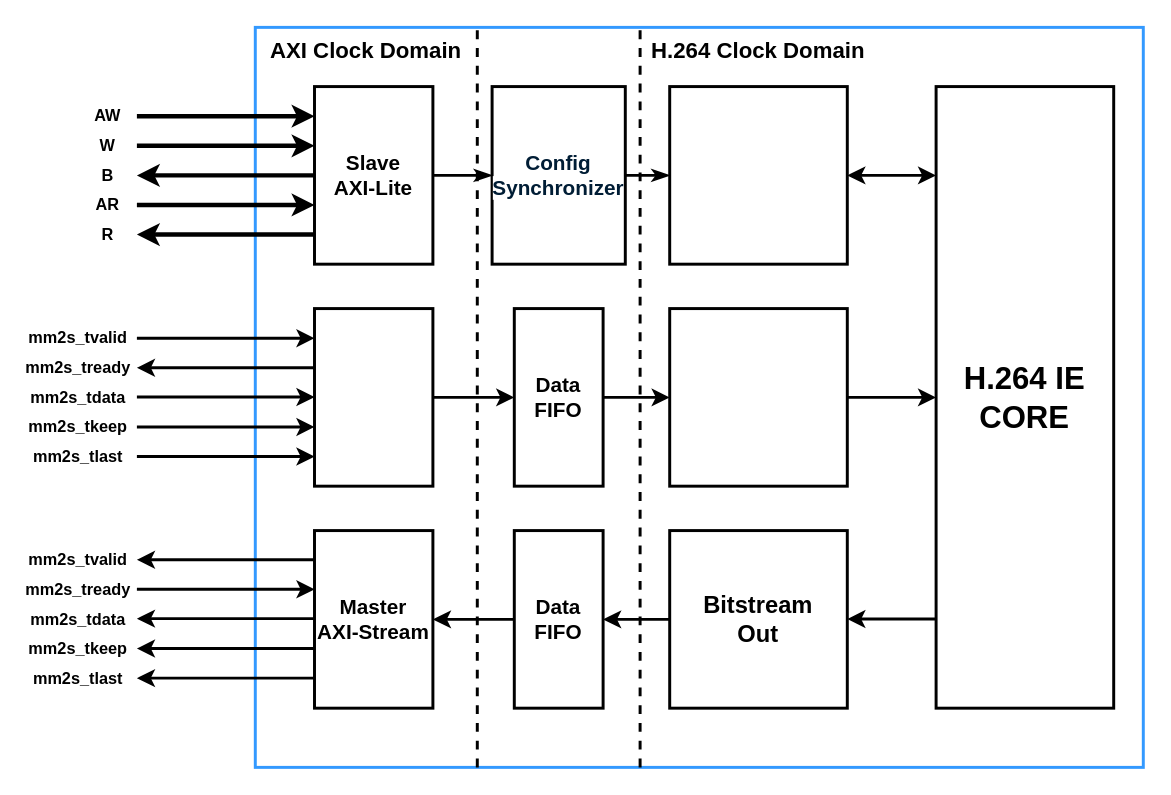
This 1171x795 diagram has some shape labels left out. Each missing label, with the centre of its shape:
"CONTROLLER" belongs at point 757,174.
"LOAD_MB 16x16" belongs at point 757,396.
"Slave AXI-Stream" belongs at point 373,396.
